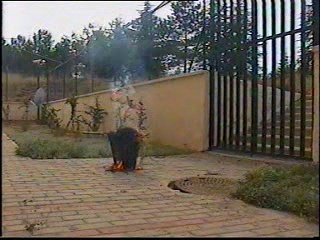smoke: (92, 36, 143, 111)
